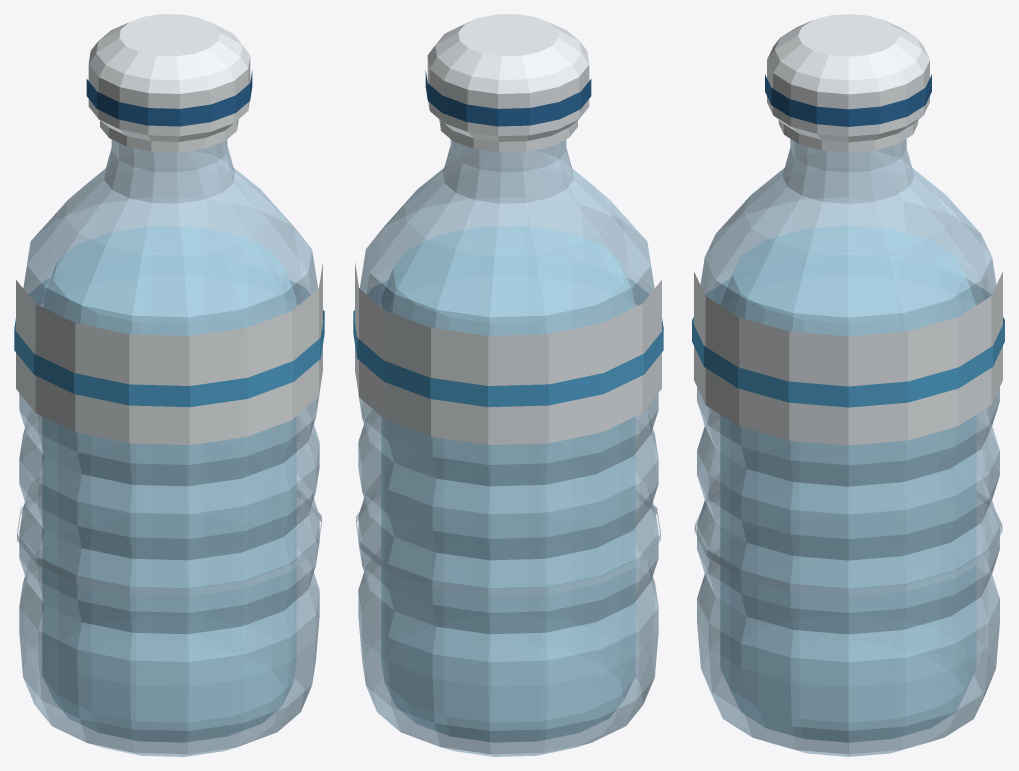
The model's file is 09_plastic_water_bottle_blue_500ml.glb.
3 renders of one model, left to right at view 1: azimuth 30°, elevation 25°; view 2: azimuth 150°, elevation 25°; view 3: azimuth 270°, elevation 25°, orthographic.
Parts seen in each view (by area): view 1: white_sports_cap; view 2: white_sports_cap; view 3: white_sports_cap.
Part boxes in pixels (x1=…): white_sports_cap: x1=14, y1=14, x2=324, y2=756; white_sports_cap: x1=353, y1=14, x2=663, y2=756; white_sports_cap: x1=692, y1=14, x2=1004, y2=756.
Size of the model in its own units: 0.0806 by 0.192 by 0.0806.
